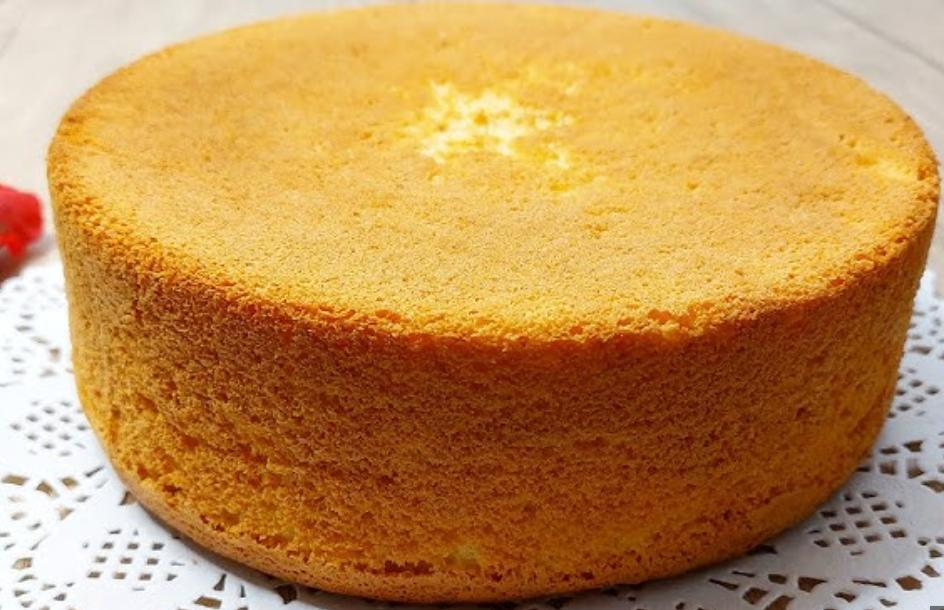Sponge Cake: (56, 10, 944, 610)
